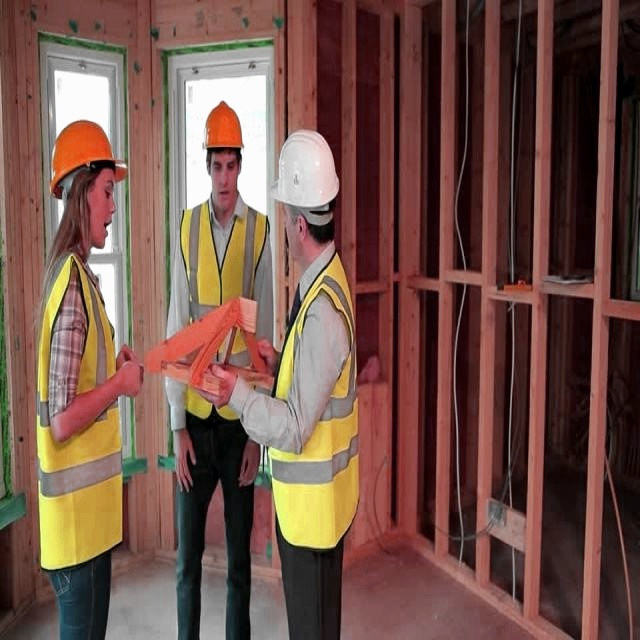Con_Casco: (205, 102, 243, 186)
Sin_Chaleco: (37, 252, 121, 578), (273, 248, 355, 551), (174, 205, 269, 440)
